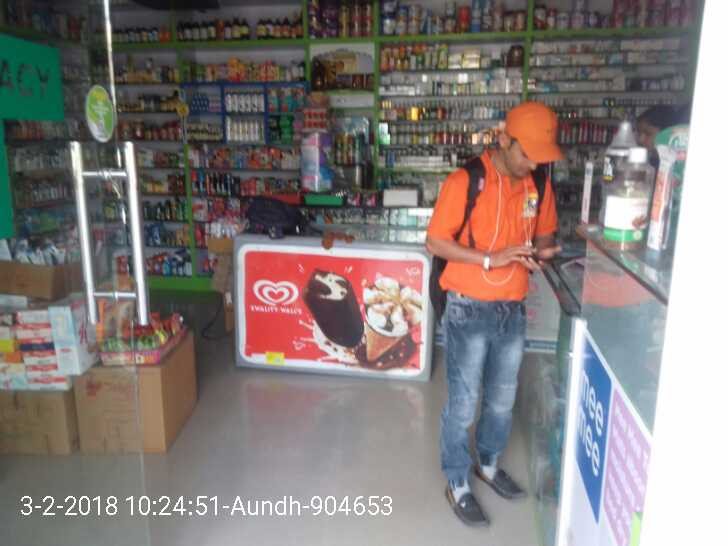vicks: (191, 90, 225, 113)
